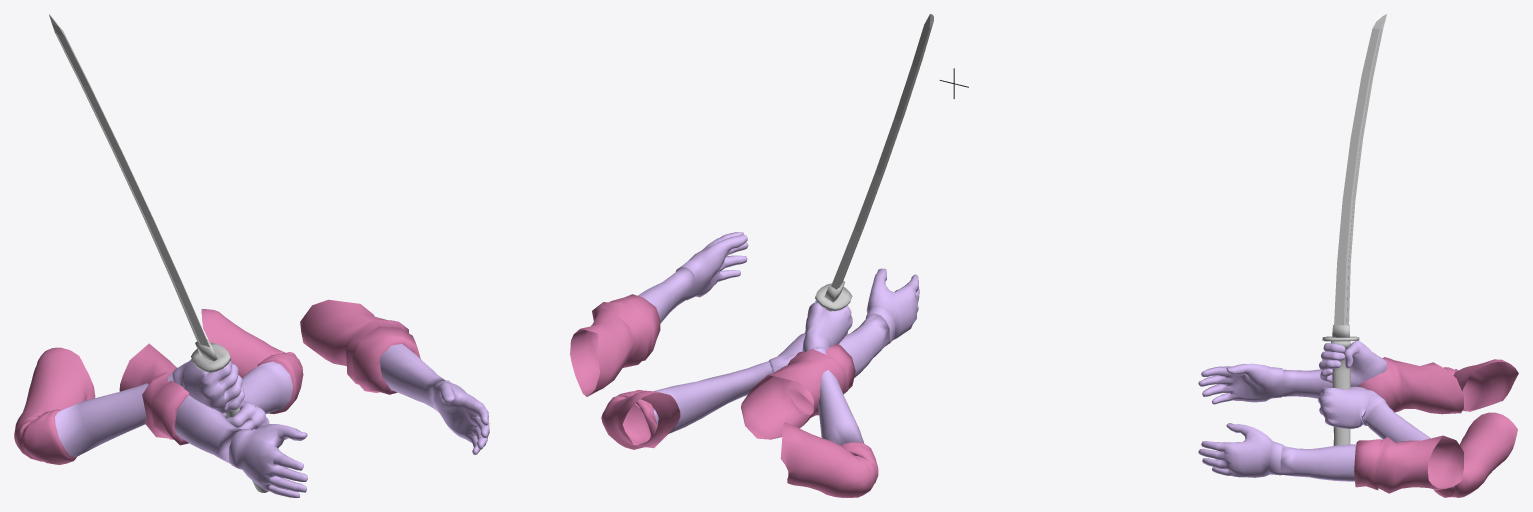
File: katana.obj
The picture shows the model from 3 angles, left to right: view 1: azimuth 30°, elevation 25°; view 2: azimuth 150°, elevation 25°; view 3: azimuth 270°, elevation 25°; orthographic projection. The views are drawn at different scales.
Visible parts, largest first — view 1: non-ts_css, broke's_css, Katana_Cube.003; view 2: non-ts_css, broke's_css, Katana_Cube.003; view 3: non-ts_css, broke's_css, Katana_Cube.003.
Boxes of the visible parts, x1,y1,x2,y2 form: non-ts_css: [119, 299, 489, 497]; broke's_css: [14, 309, 303, 464]; Katana_Cube.003: [49, 14, 268, 492]; non-ts_css: [570, 232, 919, 439]; broke's_css: [601, 300, 878, 497]; Katana_Cube.003: [815, 14, 933, 311]; non-ts_css: [1198, 357, 1463, 493]; broke's_css: [1318, 340, 1518, 497]; Katana_Cube.003: [1322, 14, 1386, 445].
Bounding box in the file's own units: 22.12 × 29.46 × 35.83.
